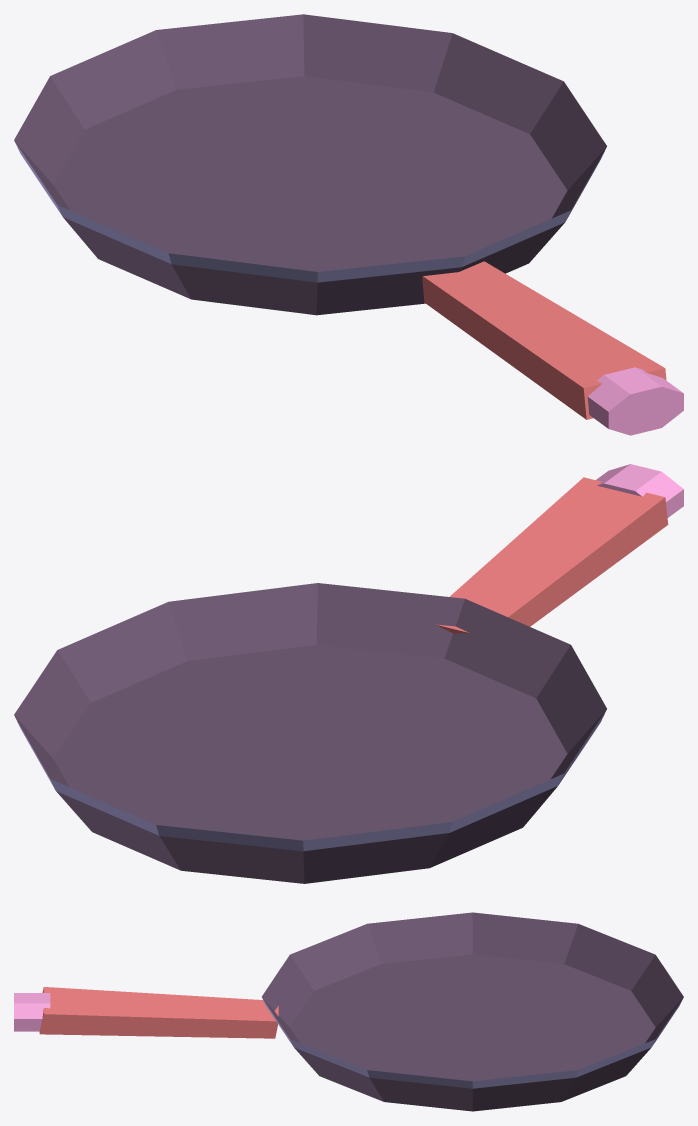
File: pan_only.glb
3 views of the same model, one above another, from view 1: azimuth 30°, elevation 25°; view 2: azimuth 150°, elevation 25°; view 3: azimuth 270°, elevation 25° (orthographic). The views are drawn at different scales.
Parts seen in each view (by area): view 1: Pan; view 2: Pan; view 3: Pan.
Boxes of the visible parts, x1,y1,x2,y2 form: Pan: (14, 14, 683, 435); Pan: (14, 464, 683, 883); Pan: (14, 912, 683, 1111).
Size of the model in its own units: 0.8184 by 0.0989 by 1.37.
